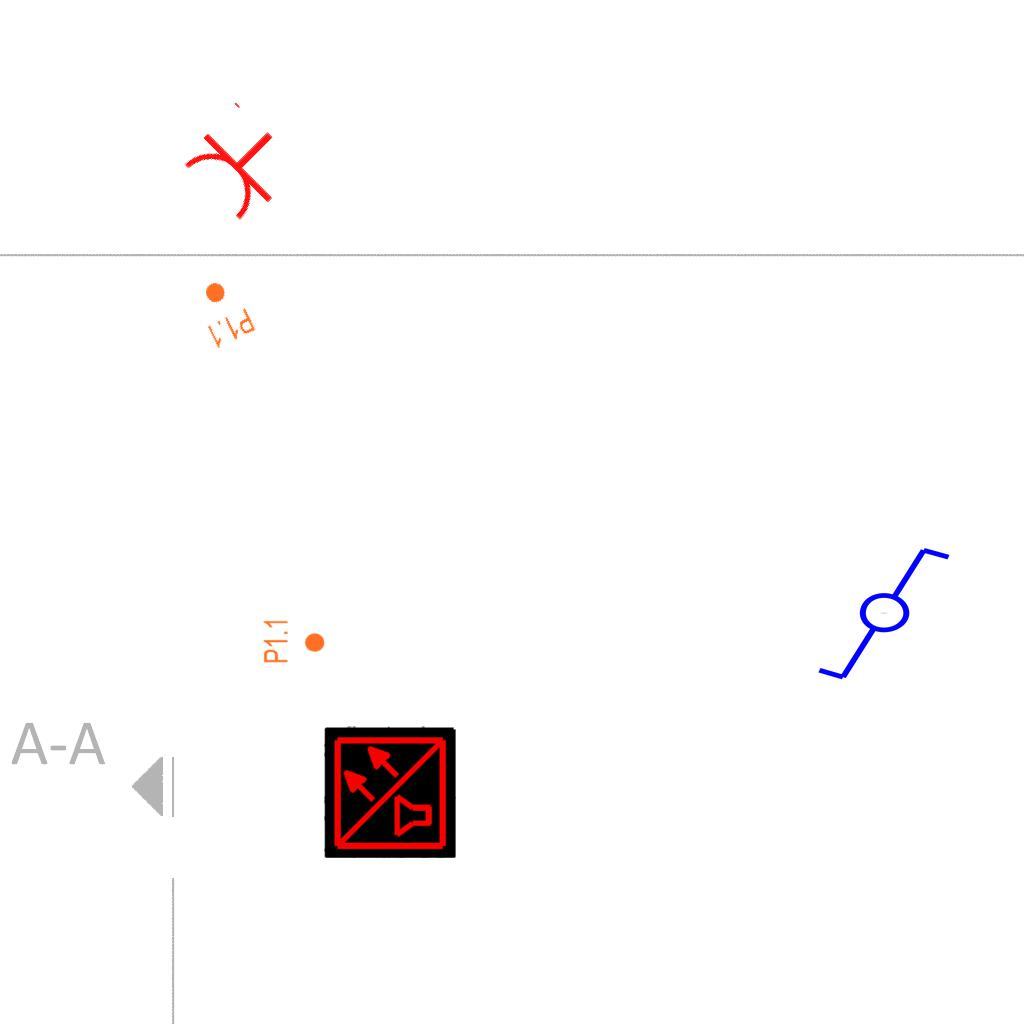Downlight_LED_Einbauleuchten_Flur: (188, 273, 258, 351), (262, 618, 326, 664)
OKW_Multisensormelder_(Kombination_optischer_Rauch-Kahlenmonoxid_Waerme-Melder): (324, 726, 456, 858)
Schukosteckdose_einfach: (173, 96, 306, 230)
Wechselschalter: (814, 543, 971, 687)
